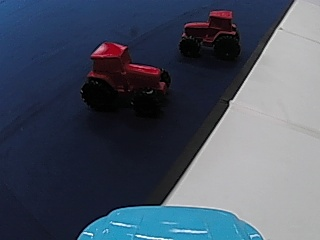Tracktor: (78, 40, 174, 112), (180, 7, 241, 60)
